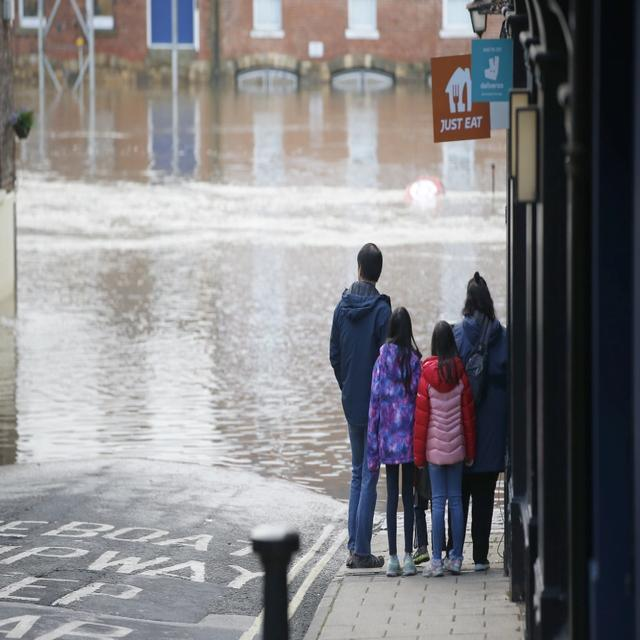Person-RiskLevel1: (326, 241, 392, 575), (446, 271, 509, 573), (369, 305, 424, 578), (414, 322, 467, 571)
